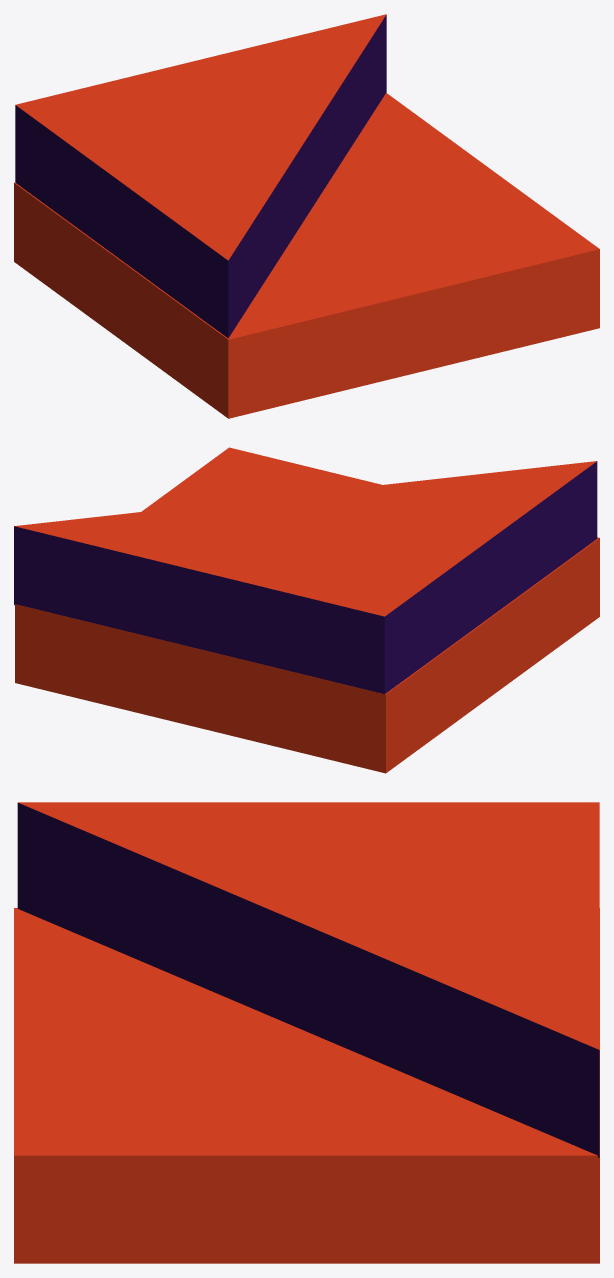
File: DonaldJuddUntitled.fbx
3 views of the same model, one above another, from view 1: azimuth 30°, elevation 25°; view 2: azimuth 150°, elevation 25°; view 3: azimuth 270°, elevation 25° (orthographic). The views are drawn at different scales.
Parts seen in each view (by area): view 1: Cube.002; view 2: Cube.002; view 3: Cube.002.
Boxes of the visible parts, x1,y1,x2,y2 form: Cube.002: (14,14,599,418); Cube.002: (14,447,599,773); Cube.002: (14,802,599,1263).
Bounding box in the file's own units: 123 × 49.61 × 123.
